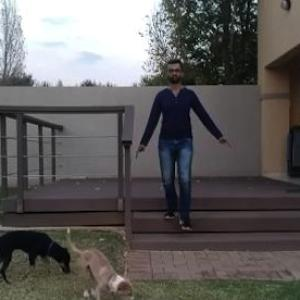land: (136, 65, 225, 232)
